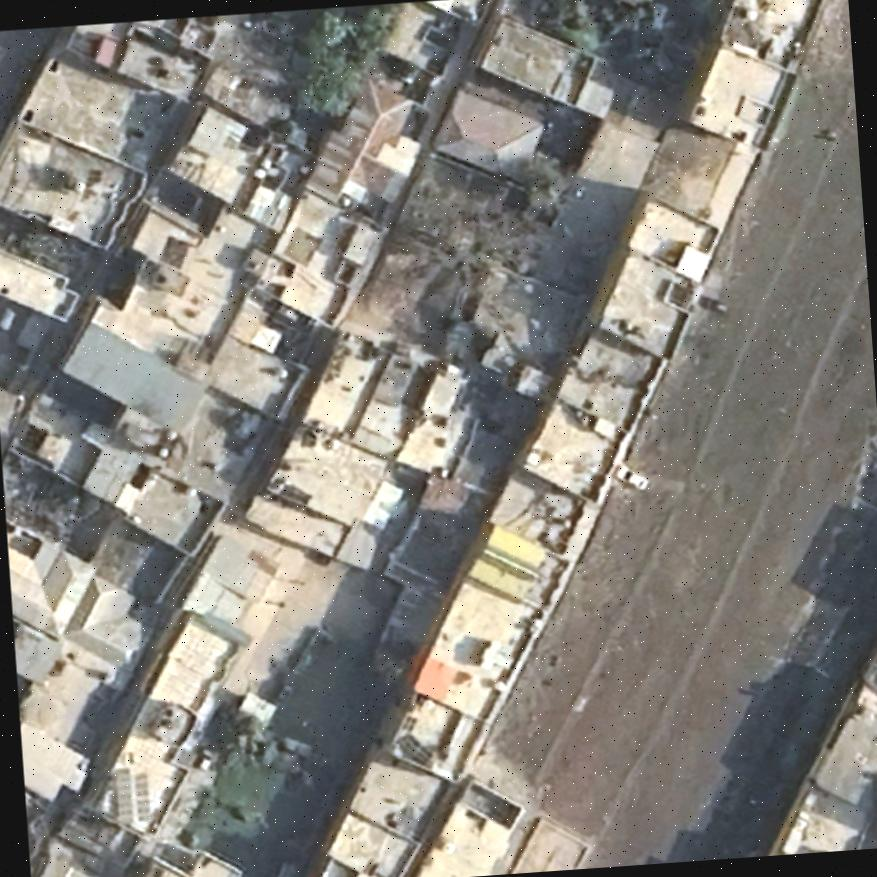Solarpanel: (110, 761, 152, 828)
